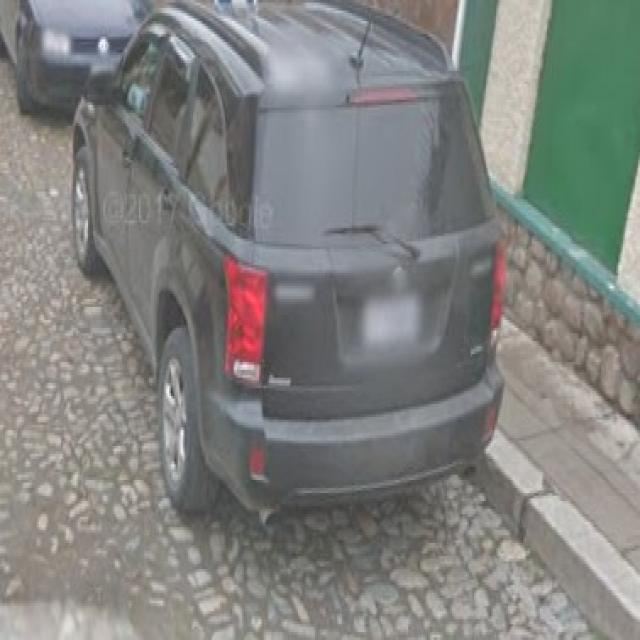car: (51, 8, 523, 531), (80, 1, 524, 486)
